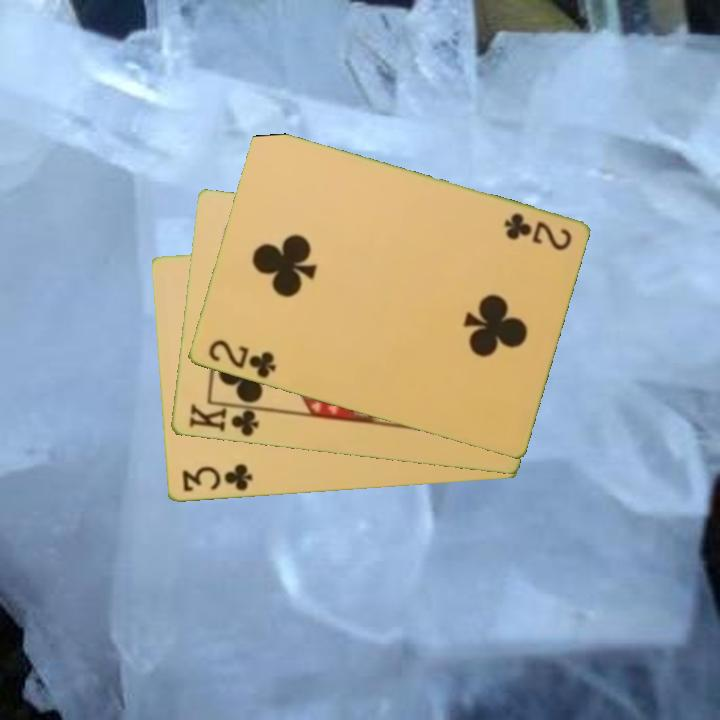2c: (204, 336, 279, 382), (499, 209, 574, 254)
3c: (178, 461, 255, 495)
Kc: (185, 400, 266, 440)
